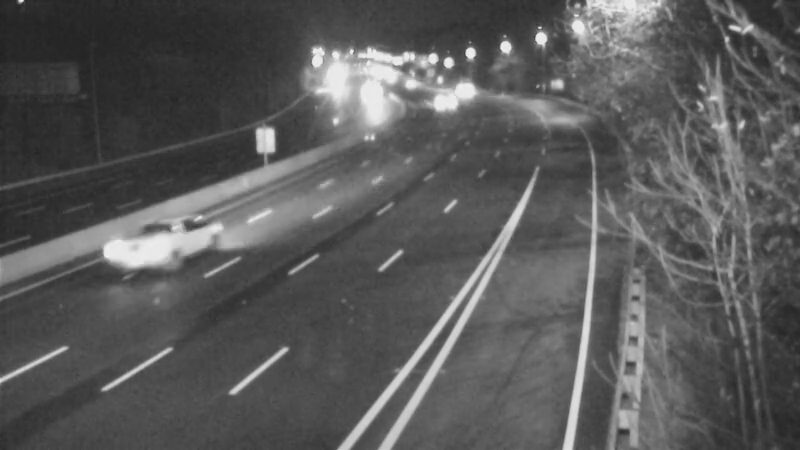vehicle: (122, 197, 202, 277), (378, 57, 428, 107), (438, 68, 488, 118), (423, 72, 473, 122), (343, 74, 393, 124)
